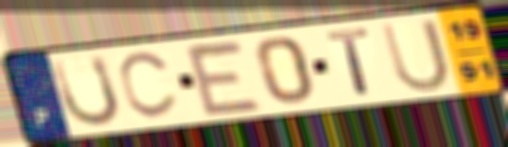0: (253, 35, 320, 107)
C: (115, 49, 181, 122)
E: (180, 39, 267, 119)
T: (323, 26, 375, 98)
U: (377, 16, 454, 96), (49, 52, 124, 130)
